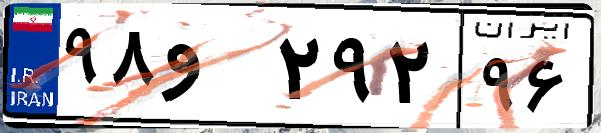2: (270, 28, 330, 110), (385, 28, 445, 110)
6: (525, 38, 570, 115)
8: (110, 28, 158, 98)
9: (330, 28, 385, 110), (57, 26, 110, 100), (475, 38, 525, 113)
و: (158, 20, 270, 120)
